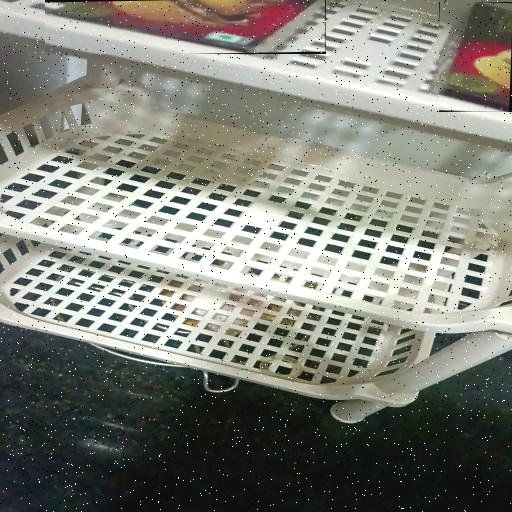Choco Fills: (45, 0, 326, 54), (439, 2, 512, 112)
